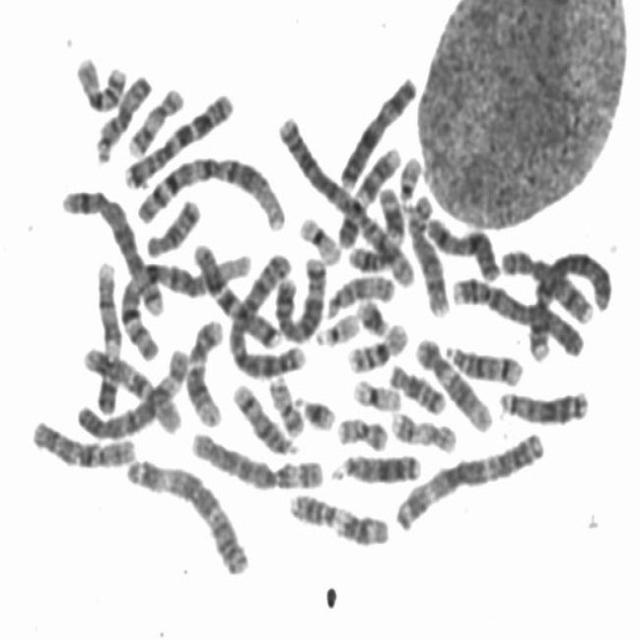A1: (116, 242, 256, 364), (127, 146, 289, 233)
A2: (270, 106, 416, 290), (222, 244, 310, 380)
A3: (388, 421, 548, 534), (119, 447, 252, 578)
B4: (448, 268, 588, 358), (523, 242, 615, 364)
B5: (54, 177, 169, 319), (270, 245, 328, 345)
C10: (72, 339, 187, 438), (25, 410, 140, 470)
C11: (282, 483, 393, 548), (342, 178, 407, 276)
C12: (408, 328, 495, 433), (178, 310, 227, 428)
C6: (72, 339, 187, 438), (186, 421, 326, 493)
C7: (118, 82, 237, 191), (187, 234, 285, 350)
C8: (494, 239, 598, 326), (401, 185, 453, 318)
C9: (332, 140, 402, 250), (89, 251, 124, 416)
D13: (492, 377, 592, 427), (324, 442, 424, 486)
D14: (227, 374, 302, 458), (438, 335, 526, 387)
D15: (89, 64, 155, 165), (320, 264, 398, 319)
E16: (341, 314, 411, 374), (68, 46, 129, 113)
E17: (121, 78, 188, 160), (384, 402, 460, 455)
E18: (140, 188, 204, 259), (382, 352, 448, 416)
F19: (293, 206, 344, 266), (346, 370, 403, 413)
F20: (262, 368, 307, 438), (330, 407, 390, 452)
G21: (290, 386, 338, 432), (351, 289, 393, 337)
G22: (309, 302, 362, 348), (393, 146, 425, 204)
X: (333, 66, 419, 192), (420, 206, 503, 282)
